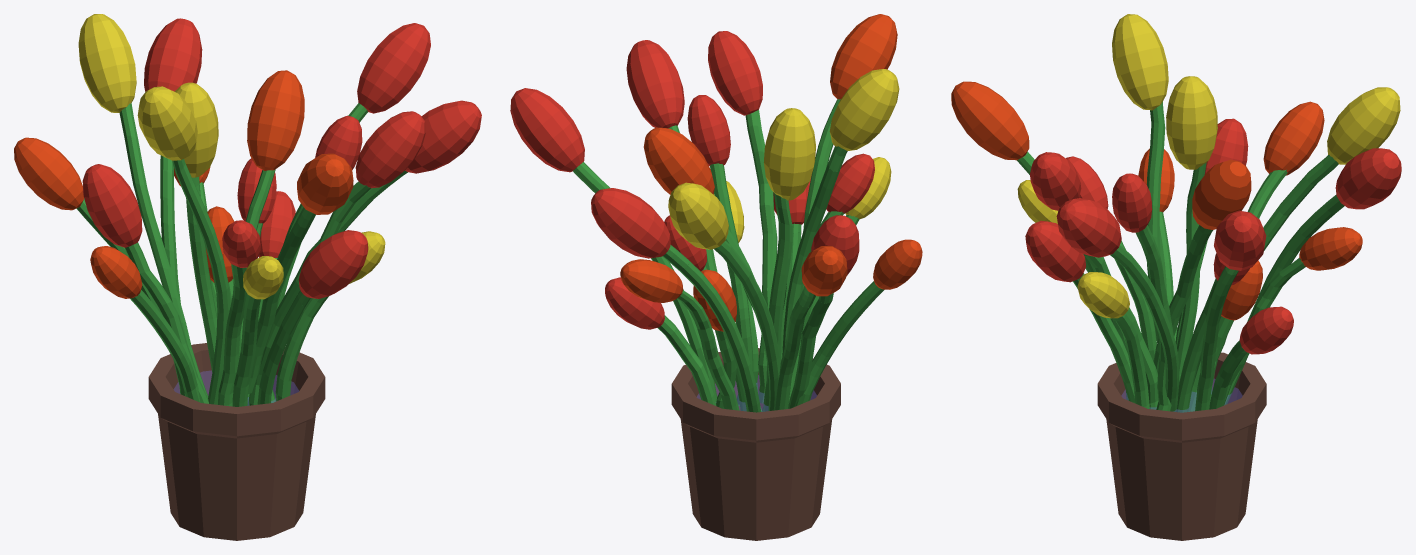
File: vase.glb
3 renders of one model, left to right at view 1: azimuth 30°, elevation 25°; view 2: azimuth 150°, elevation 25°; view 3: azimuth 270°, elevation 25°, orthographic. The views are drawn at different scales.
Visible parts, largest first — view 1: node_MeshObject863435776-PolyPaper21, node_MeshObject300104704-PolyPaper10; view 2: node_MeshObject863435776-PolyPaper21, node_MeshObject300104704-PolyPaper10; view 3: node_MeshObject863435776-PolyPaper21, node_MeshObject300104704-PolyPaper10.
Boxes of the visible parts, bbox=[...] form: node_MeshObject863435776-PolyPaper21: bbox=[76, 70, 407, 540]; node_MeshObject300104704-PolyPaper10: bbox=[14, 14, 481, 298]; node_MeshObject863435776-PolyPaper21: bbox=[573, 99, 891, 540]; node_MeshObject300104704-PolyPaper10: bbox=[510, 14, 922, 302]; node_MeshObject863435776-PolyPaper21: bbox=[1017, 102, 1344, 540]; node_MeshObject300104704-PolyPaper10: bbox=[951, 14, 1401, 270].
Size of the model in its own units: 1.43 by 1.7 by 1.53.
